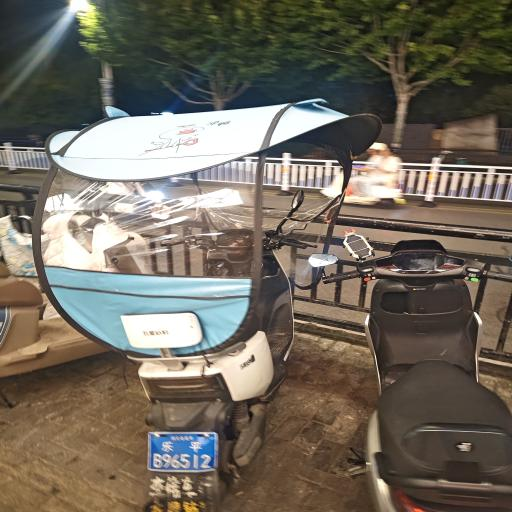car: (183, 129, 490, 384), (246, 43, 388, 156)
